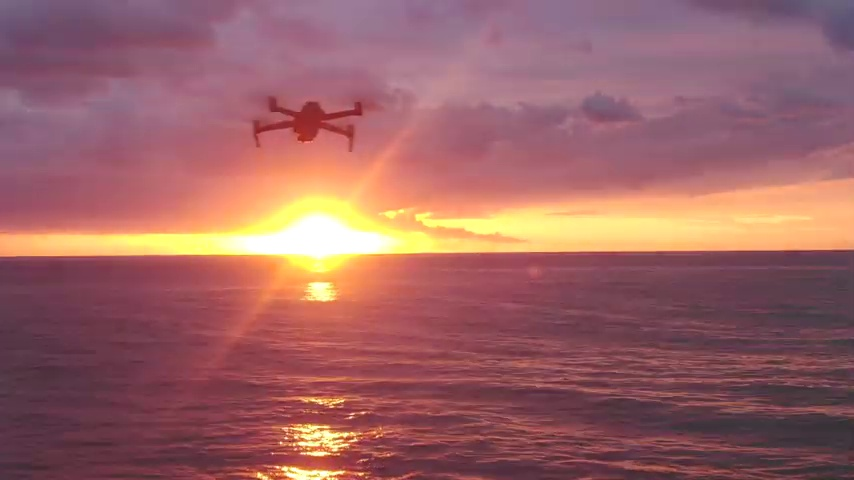drone: (250, 94, 363, 152)
